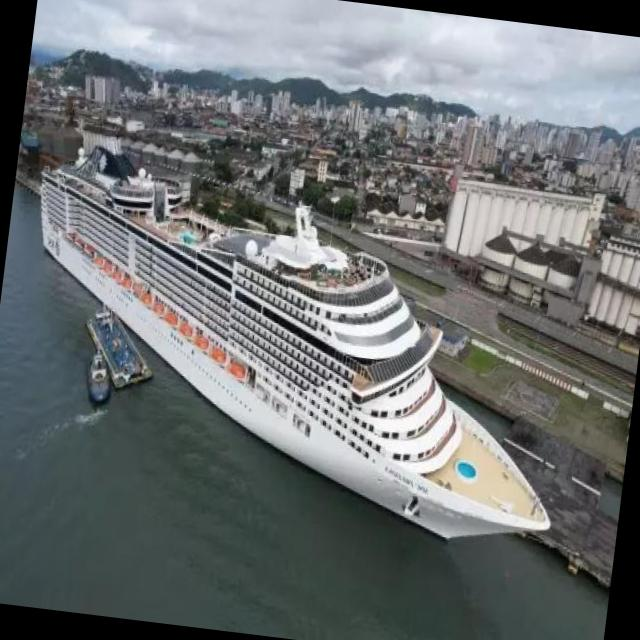Cruise: (41, 148, 550, 537)
Tug: (87, 353, 112, 403)
